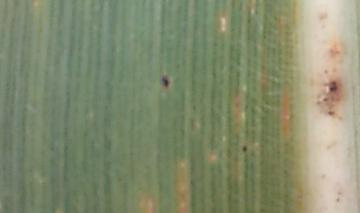tarspot: (160, 74, 170, 89), (329, 80, 338, 93), (326, 109, 336, 117), (241, 144, 247, 153), (321, 96, 328, 103), (334, 196, 340, 204), (322, 67, 328, 74)
